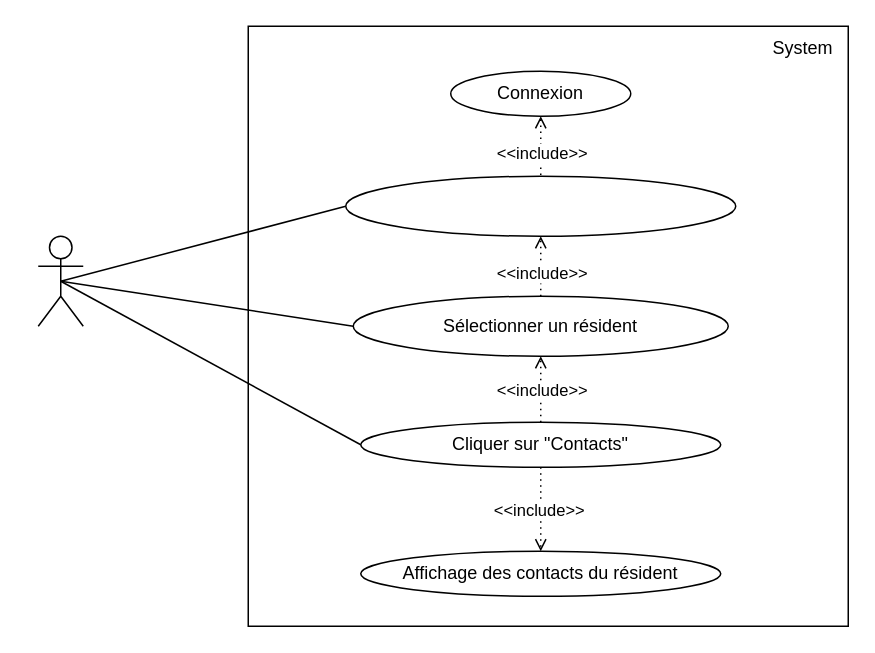
Some shapes in this 875 by 653 pixel diagram are drawn without their labels. The centre of each missing label's shape, as x and y in pixels:
"Consulter la liste des résidents" belongs at point (540, 205).
"Employé" belongs at point (60, 280).
